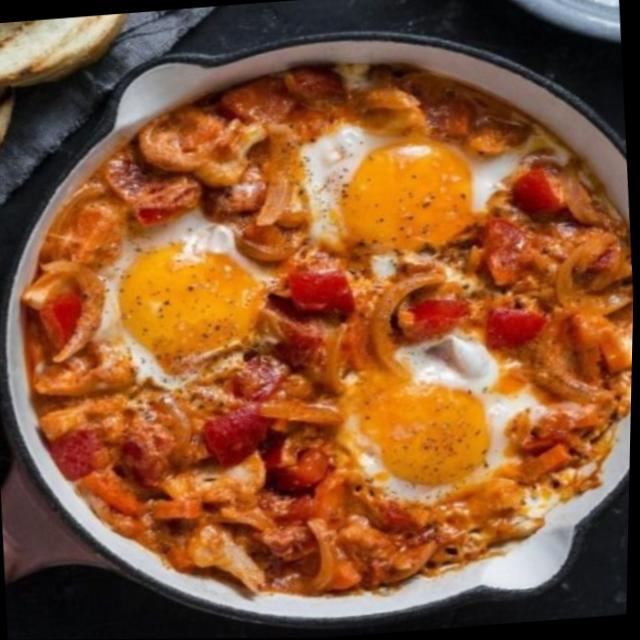EGG: (22, 63, 632, 588)
